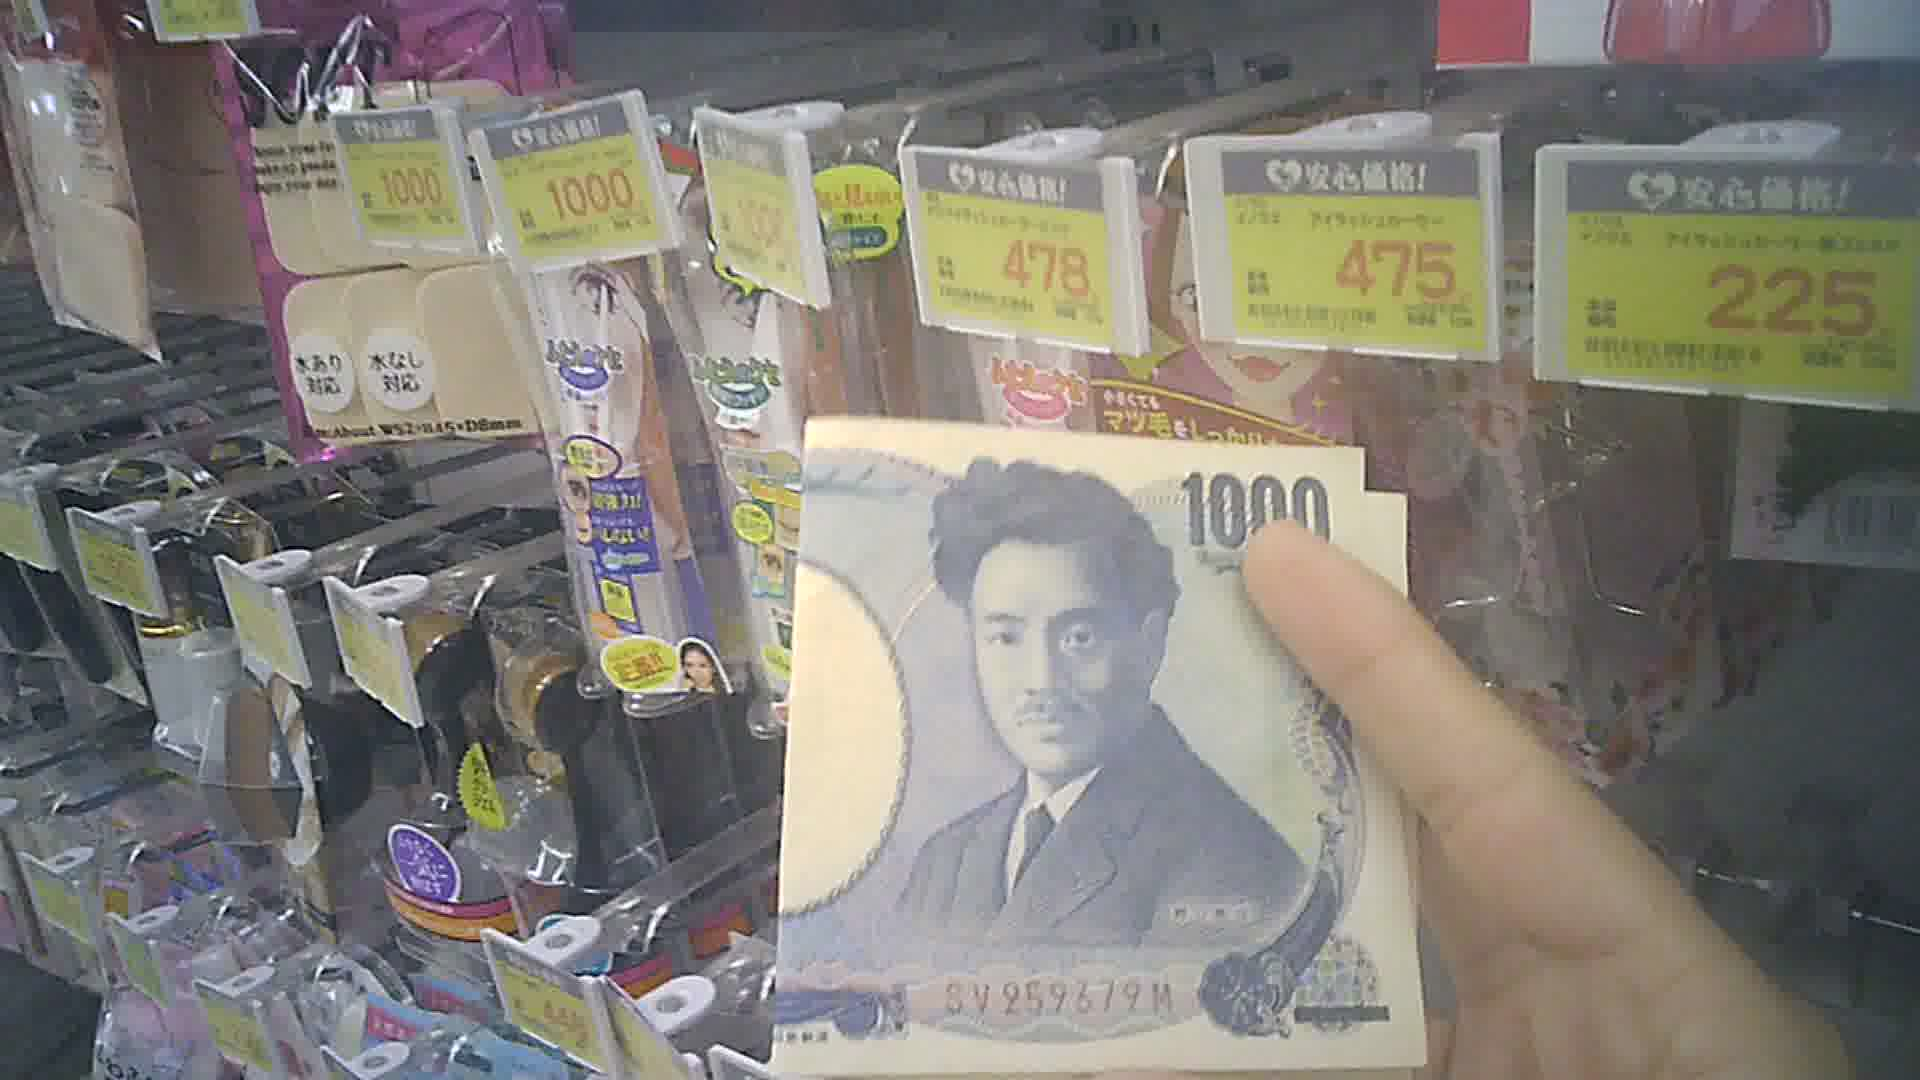1,000 Yen: (767, 382, 1422, 1077)
